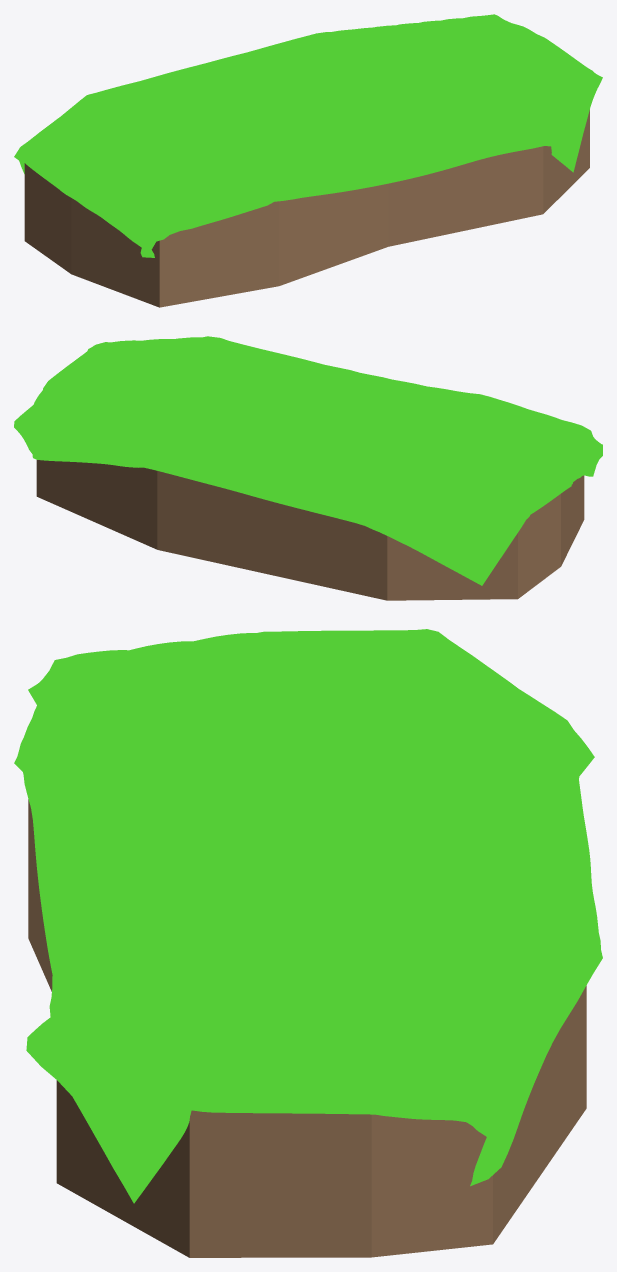
Rendered from SmallBloc03.fbx.
3 views of the same model, one above another, from view 1: azimuth 30°, elevation 25°; view 2: azimuth 150°, elevation 25°; view 3: azimuth 270°, elevation 25° (orthographic). The views are drawn at different scales.
Parts seen in each view (by area): view 1: SmallBloc03; view 2: SmallBloc03; view 3: SmallBloc03.
Boxes of the visible parts, left/top/right/bottom form: SmallBloc03: left=14, top=14, right=602, bottom=307; SmallBloc03: left=14, top=336, right=602, bottom=600; SmallBloc03: left=14, top=629, right=602, bottom=1257.
Size of the model in its own units: 1037 by 192 by 548.
